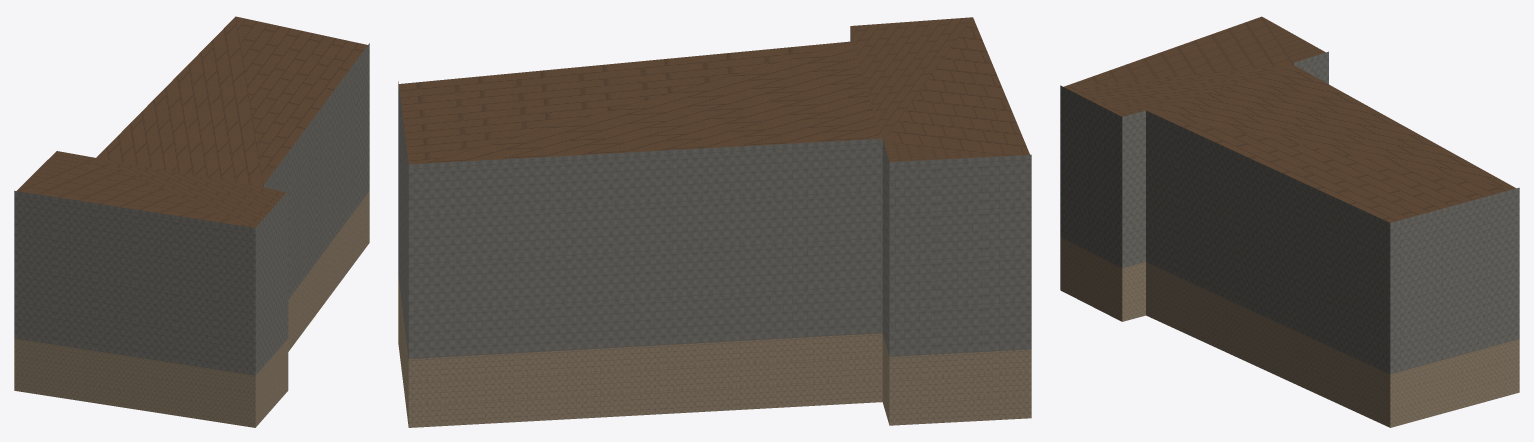
The model's file is core_0026.gltf.
The picture shows the model from 3 angles, left to right: view 1: azimuth 30°, elevation 25°; view 2: azimuth 150°, elevation 25°; view 3: azimuth 270°, elevation 25°; orthographic projection. The views are drawn at different scales.
Parts seen in each view (by area): view 1: core_0026; view 2: core_0026; view 3: core_0026.
Boxes of the visible parts, box(x1,y1,x2,y2) form: core_0026: box(14, 16, 369, 427); core_0026: box(398, 17, 1031, 427); core_0026: box(1060, 16, 1519, 427).
Bounding box in the file's own units: 42.58 × 19.48 × 39.56.
3 materials, 3 textured.
